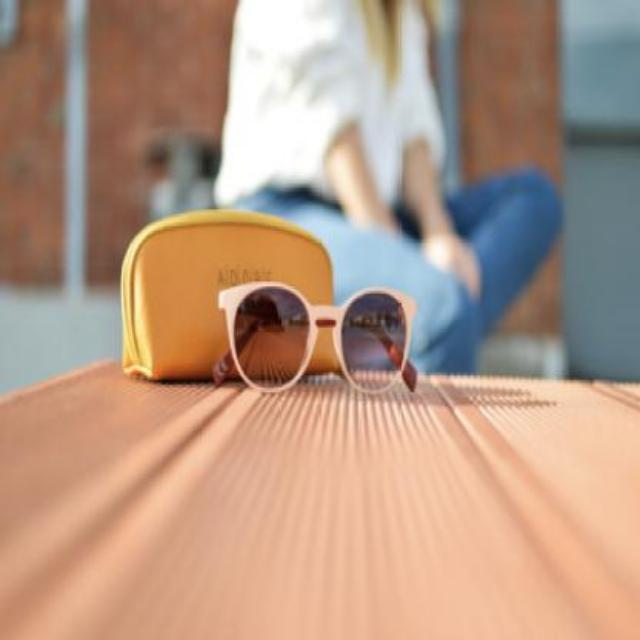glasses: (213, 277, 417, 397)
